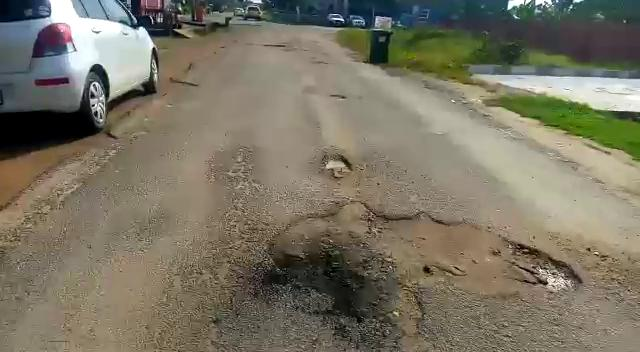pothole: (265, 200, 585, 301), (319, 155, 356, 178)
